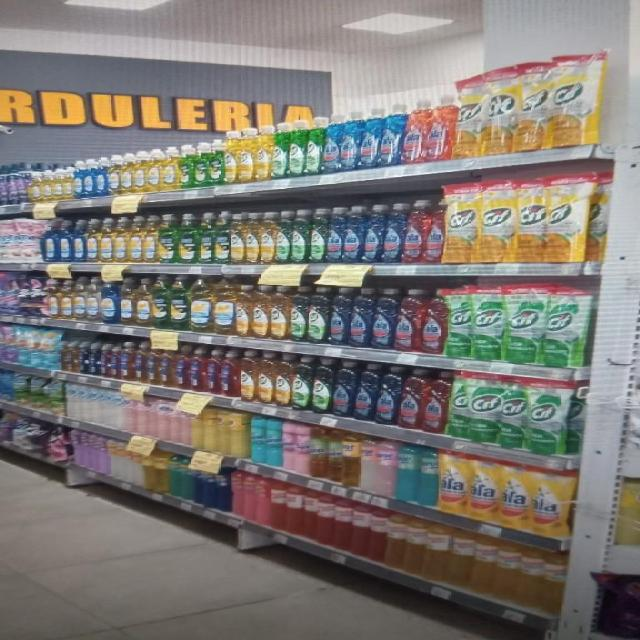ala_conc_azul: (373, 286, 395, 351), (379, 104, 400, 168), (351, 287, 372, 348), (384, 202, 404, 264), (358, 108, 378, 170), (356, 362, 376, 422), (330, 286, 350, 346), (378, 365, 398, 425), (334, 360, 354, 418), (343, 204, 362, 264), (340, 109, 358, 172), (363, 204, 382, 263), (323, 115, 339, 173), (327, 206, 343, 263)
ala_conc_rojo: (396, 288, 422, 353), (422, 288, 445, 355), (423, 369, 447, 433), (399, 367, 422, 429), (402, 99, 422, 164), (404, 200, 424, 264), (424, 200, 443, 264)
ala_sachet_amarillo: (533, 468, 573, 536), (500, 463, 530, 528), (469, 458, 499, 521), (440, 453, 468, 515)
cif_conc_bot_amarilla: (270, 284, 289, 340), (252, 284, 270, 338), (275, 353, 292, 407), (238, 350, 256, 400), (257, 352, 274, 404), (238, 128, 254, 183), (254, 126, 270, 181), (260, 212, 276, 264), (235, 284, 251, 336), (224, 129, 238, 184), (245, 212, 259, 264), (230, 212, 244, 264)
cif_conc_botella_verde: (308, 285, 328, 344), (312, 358, 332, 413), (292, 356, 311, 410), (288, 120, 304, 178), (271, 122, 287, 180), (291, 285, 307, 342), (309, 208, 325, 263), (306, 118, 321, 176), (292, 209, 308, 263), (276, 210, 291, 264), (211, 142, 225, 185)
cif_conc_sachet_amarillo: (552, 54, 600, 148), (547, 172, 590, 264), (477, 179, 514, 263), (517, 60, 550, 152), (444, 182, 477, 264), (515, 178, 545, 263)
cif_conc_sachet_verde: (544, 284, 590, 367), (526, 380, 571, 454), (505, 284, 543, 364), (472, 284, 504, 361), (468, 374, 498, 444), (498, 378, 525, 450), (446, 285, 471, 359)
heroe: (396, 443, 417, 503), (418, 447, 438, 507), (376, 439, 396, 498), (360, 436, 378, 494)
magistral_con_amarillo: (190, 275, 212, 333), (213, 277, 234, 335), (136, 277, 153, 327), (120, 277, 136, 326), (143, 214, 158, 264), (128, 216, 143, 263), (87, 218, 102, 262), (147, 148, 162, 192), (99, 217, 113, 263), (114, 216, 128, 262), (73, 276, 87, 322), (59, 276, 73, 321), (132, 151, 146, 193), (45, 277, 58, 319), (121, 152, 133, 195), (108, 154, 120, 195), (52, 163, 64, 200), (44, 163, 54, 201), (65, 162, 75, 199)
magistral_con_azul: (101, 278, 119, 324), (57, 218, 72, 262), (43, 219, 57, 262), (87, 276, 100, 322), (72, 218, 85, 262), (81, 158, 95, 198), (80, 216, 91, 262), (95, 156, 107, 196), (73, 160, 83, 198)
vencedor: (516, 546, 544, 608), (541, 554, 567, 613), (494, 540, 519, 601), (423, 525, 449, 582), (471, 536, 496, 594), (448, 532, 472, 587), (384, 512, 406, 569), (404, 519, 425, 575), (368, 508, 388, 564), (350, 504, 370, 557)
zorro: (187, 349, 202, 392), (144, 344, 158, 384), (158, 348, 172, 387), (173, 349, 186, 389), (118, 342, 131, 381), (132, 342, 144, 383), (106, 343, 117, 379)
